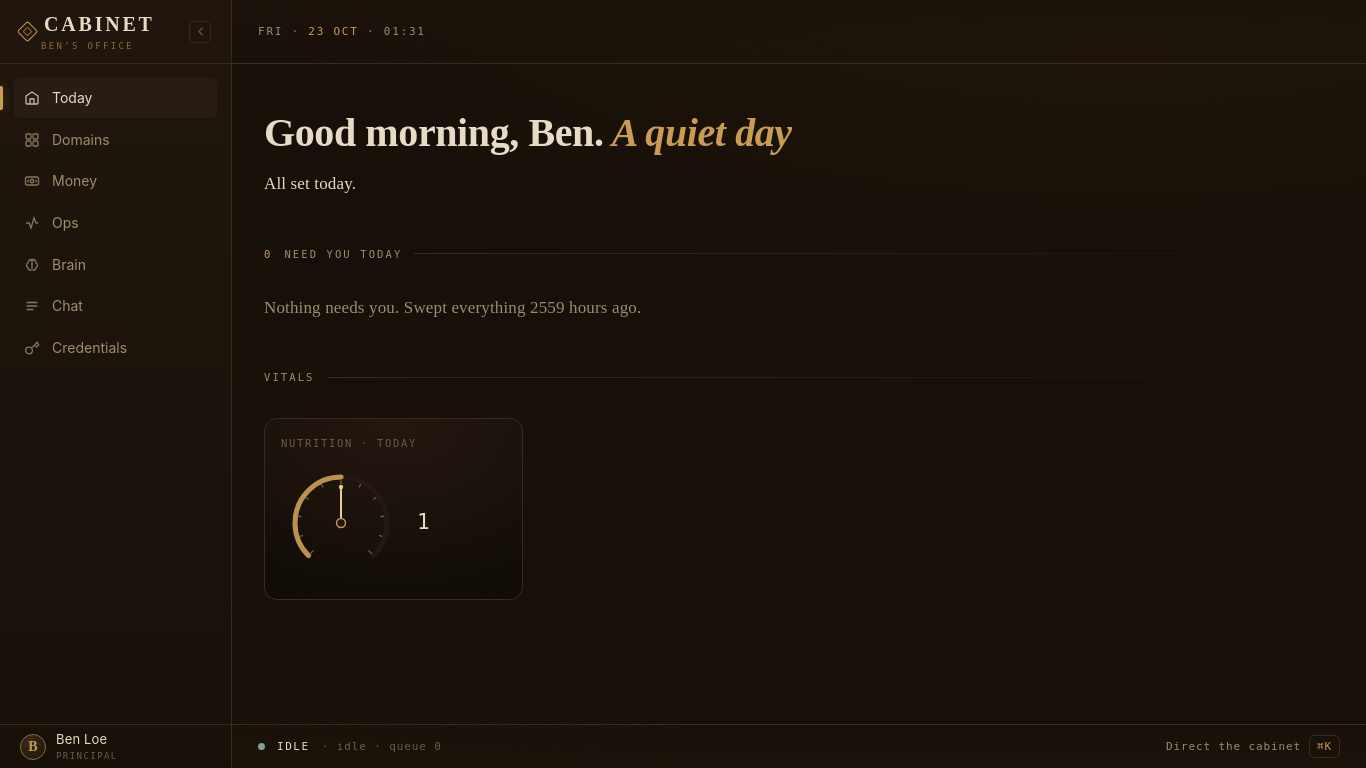
Cabinet v2 console — integration › routes between surfaces from the rail
This screenshot has width=1366, height=768.
Check: the heading "Good morning, Ben. A quiet day" is shown, box top-left (264, 110), bottom-right (792, 155)
Click the button "Ops".
click(116, 223)  # box top-left (14, 203), bottom-right (217, 243)
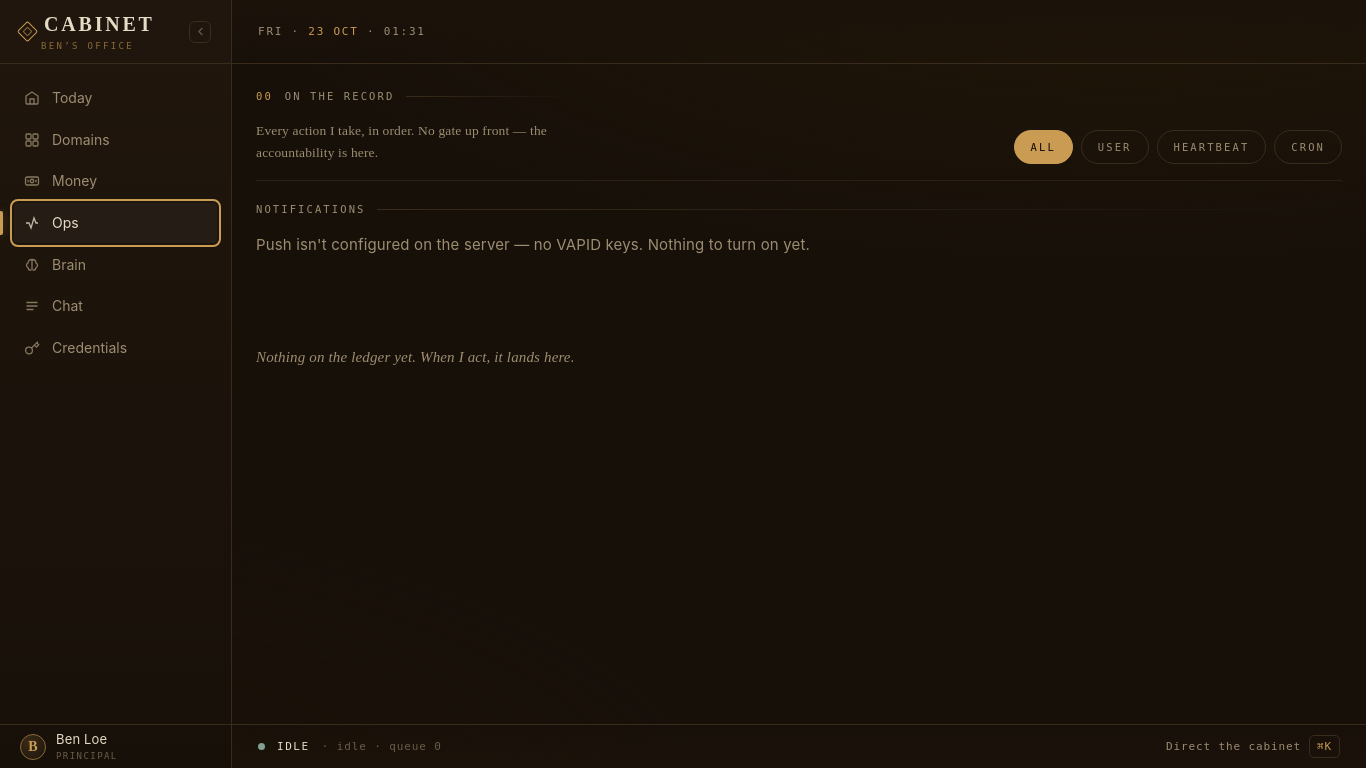
Check: the heading "Good morning, Ben" is gone
